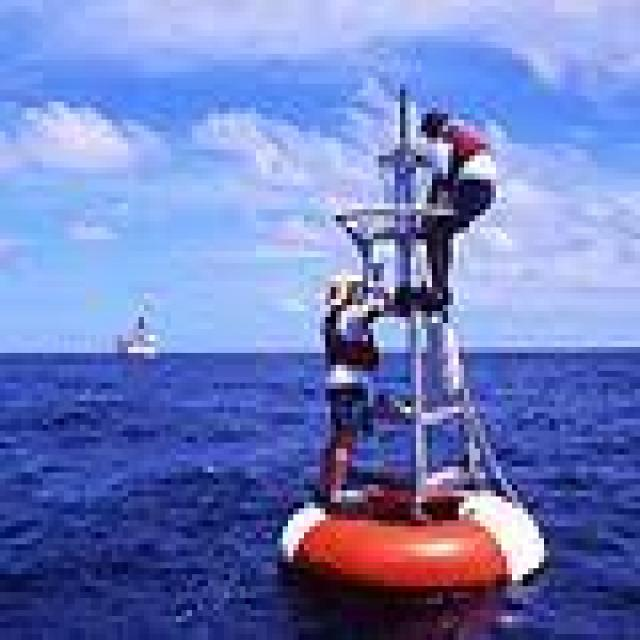buoy: (279, 89, 579, 606)
